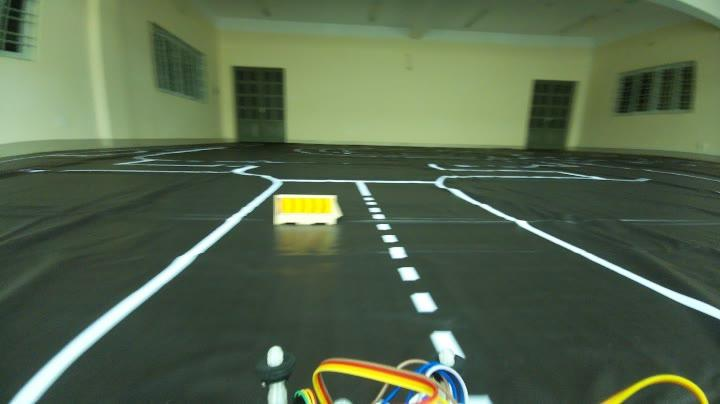roadblock: (270, 191, 347, 228)
